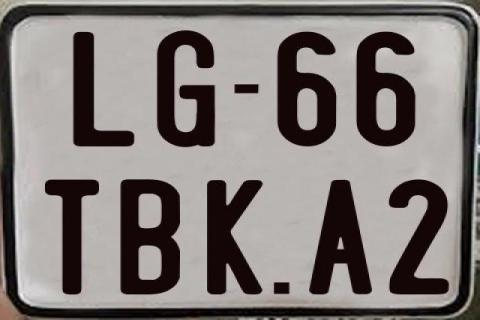0: (353, 31, 417, 150), (386, 179, 450, 297), (276, 29, 338, 150)
A: (308, 177, 372, 297)
B: (119, 178, 179, 298)
G: (154, 30, 218, 148)
K: (206, 180, 268, 294)
L: (72, 30, 136, 148)
T: (45, 179, 103, 295)
